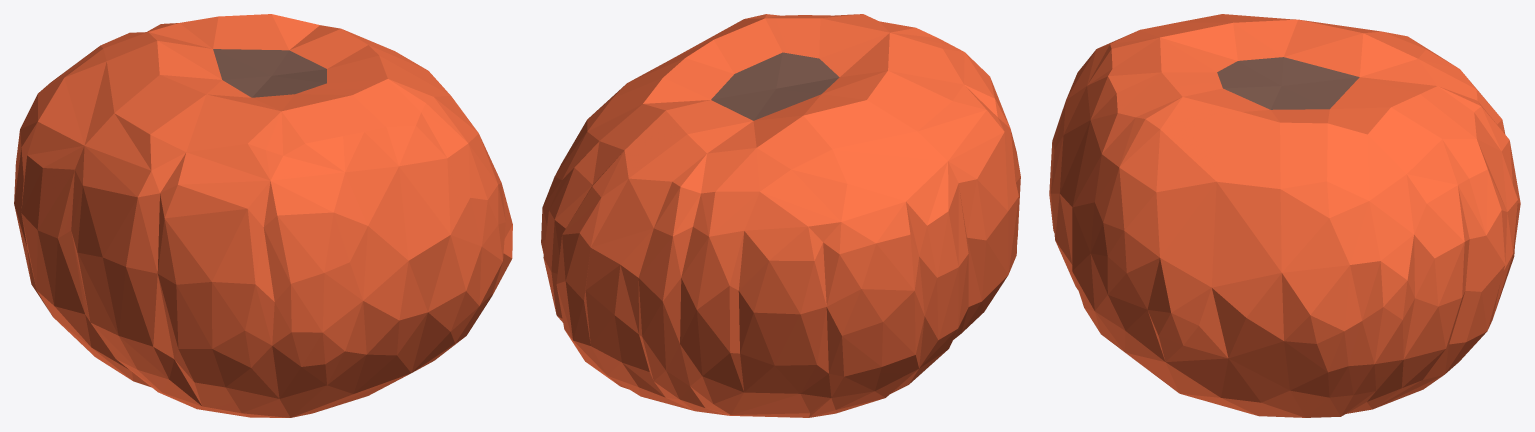
The model's file is fantasy_plant_027.fbx.
3 renders of one model, left to right at view 1: azimuth 30°, elevation 25°; view 2: azimuth 150°, elevation 25°; view 3: azimuth 270°, elevation 25°, orthographic. The views are drawn at different scales.
Parts seen in each view (by area): view 1: fantasy_plant.027; view 2: fantasy_plant.027; view 3: fantasy_plant.027.
Boxes of the visible parts, <box> form: fantasy_plant.027: <box>14,14,512,417</box>; fantasy_plant.027: <box>541,14,1020,417</box>; fantasy_plant.027: <box>1049,14,1520,417</box>.
Bounding box in the file's own units: 87.99 × 66.61 × 90.41.
Materials: 1 (1 with a texture image).
